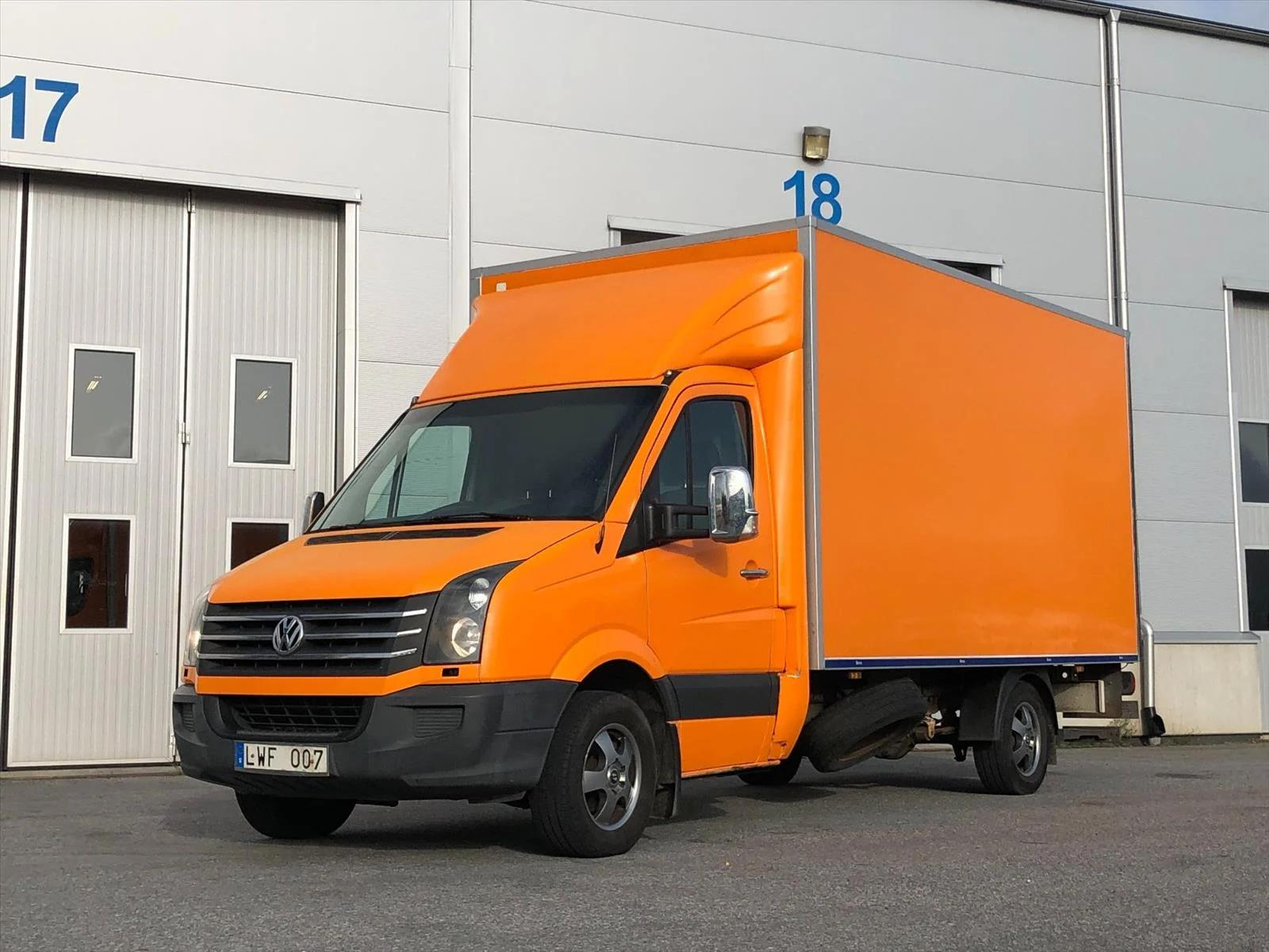license-plates: (234, 745, 328, 776)
